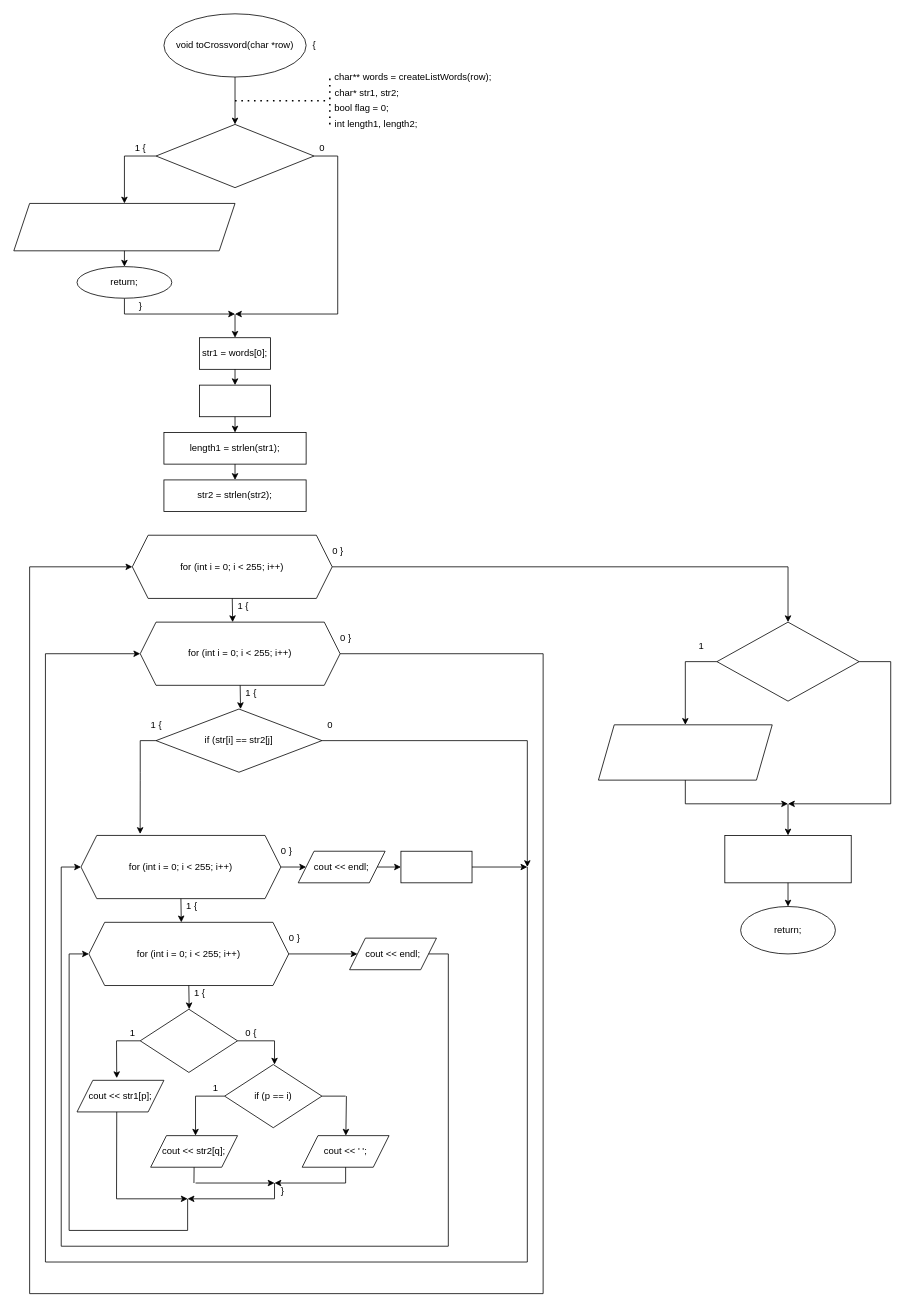
This 911x1308 diagram has some shape labels left out. The centre of each missing label's shape, as x and y in pixels:
cout << "В ввденых словах нет ни одной одинаковой буквы";: (685,752)
cout << "Введено не два слова!" << endl;: (124,227)
deleteListWords(words);: (787,859)
flag = 1;: (436,866)
if (!isTwoWords(words)): (234,156)
if (flag == 0): (787,661)
if (q == j): (188,1040)
str2 = words[1];: (235,400)
